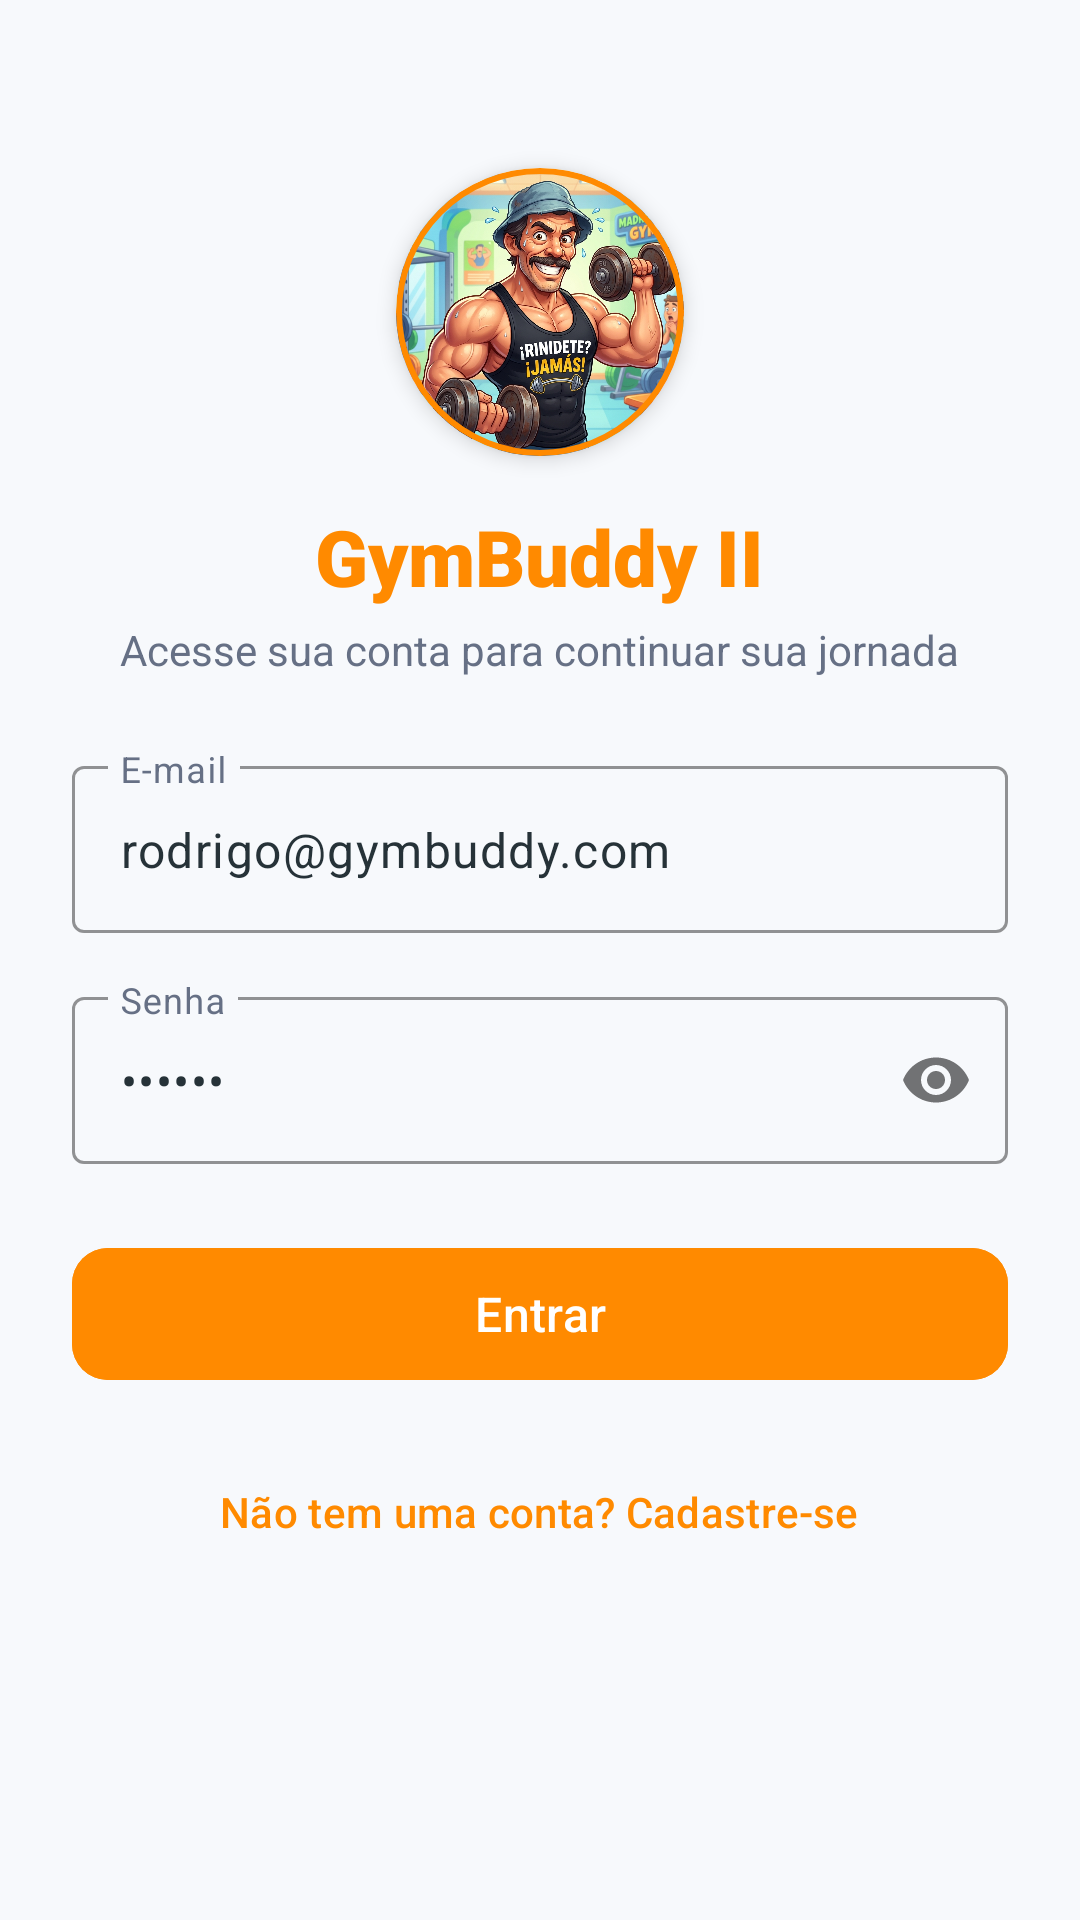

Locate icon controls on the screen. Image size 1080 × 1920, boxes as (x1, y1, x2, y2).
Mascote GymBuddy: (396, 168, 684, 456)
